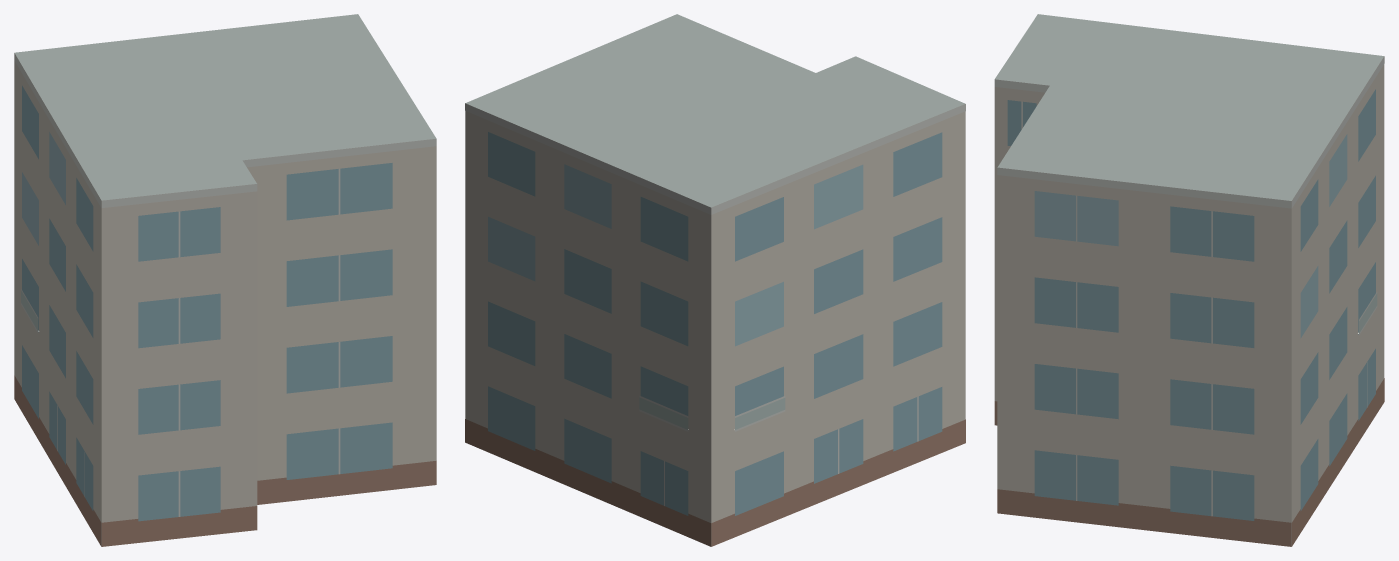
Rendered from survey-upis-32806837.glb.
3 views of the same model, side by side, from view 1: azimuth 30°, elevation 25°; view 2: azimuth 150°, elevation 25°; view 3: azimuth 270°, elevation 25° (orthographic). The views are drawn at different scales.
Parts seen in each view (by area): view 1: survey-upis-32806837.tmp; view 2: survey-upis-32806837.tmp; view 3: survey-upis-32806837.tmp.
Part boxes in pixels (left/top/right/bottom): survey-upis-32806837.tmp: left=14, top=14, right=436, bottom=546; survey-upis-32806837.tmp: left=465, top=14, right=965, bottom=546; survey-upis-32806837.tmp: left=994, top=14, right=1384, bottom=546.
Size of the model in its own units: 13 by 11.2 by 11.45.
